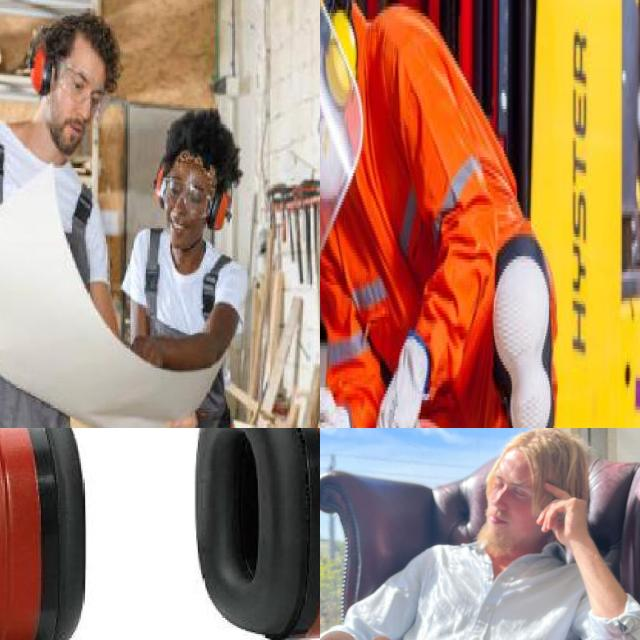Ear-protection: (0, 428, 320, 640), (146, 156, 238, 239), (24, 44, 108, 113), (327, 0, 360, 104)
glasses: (56, 48, 115, 122), (159, 170, 215, 224)
head_nohelmet: (30, 4, 131, 167), (151, 99, 247, 266)
person: (0, 2, 133, 428), (117, 93, 266, 428)
